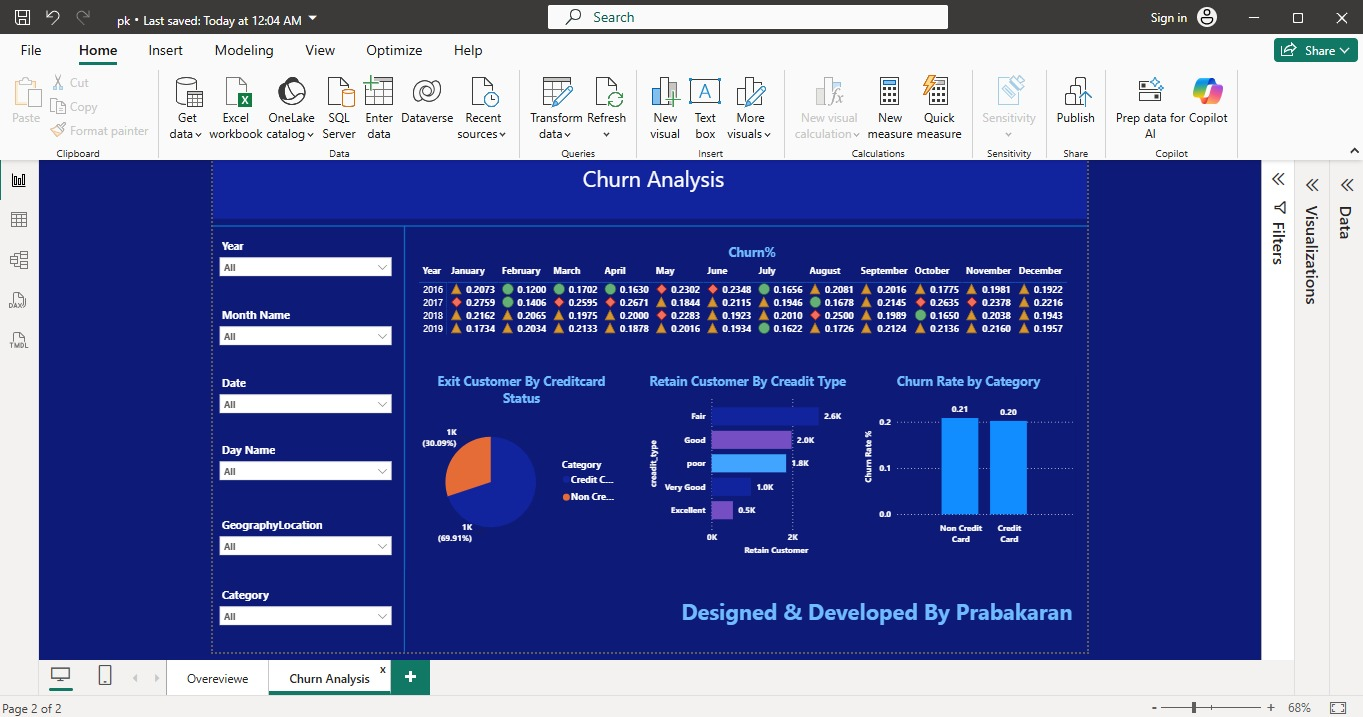

Layout of this report page (visuals, bound fields, positions):
{"tool":"powerbi","page":{"name":"Churn Analysis","canvas":[1280,720],"ordinal":1},"visuals":[{"type":"pivotTable","title":"Churn%","fields":{"Rows":["calender Table.Year"],"Columns":["calender Table.Month Name"],"Values":["Active Customer.Churn %"]},"box":[297.1,121.5,813.7,178.5],"z":0},{"type":"pieChart","title":"Exit Customer By Creditcard Status","fields":{"Y":["Active Customer.Exit Customer"],"Category":["Creditcard Category.Category"]},"box":[297.1,300,305.9,288.3],"z":1000},{"type":"textbox","box":[0,0,1280.5,86.3],"z":2000},{"type":"shape","box":[0,10.2,1280.5,172.7],"z":3000},{"type":"shape","box":[43.9,96.6,472.7,623.4],"z":4000},{"type":"slicer","fields":{"Values":["calender Table.Year"]},"box":[0,109.8,270.7,73.2],"z":5000},{"type":"slicer","fields":{"Values":["calender Table.Month Name"]},"box":[0,210.7,270.7,79],"z":6000},{"type":"slicer","fields":{"Values":["calender Table.Date"]},"box":[0,310.2,270.7,76.1],"z":7000},{"type":"slicer","fields":{"Values":["calender Table.Day Name"]},"box":[0,408.3,270.7,80.5],"z":8000},{"type":"slicer","fields":{"Values":["Location.GeographyLocation"]},"box":[0,518,270.7,80.5],"z":9000},{"type":"slicer","fields":{"Values":["Creditcard Category.Category"]},"box":[0,620.5,270.7,79],"z":10000},{"type":"clusteredBarChart","title":"Retain Customer By Creadit Type","fields":{"Y":["Active Customer.Retain Customer"],"Category":["Bank_Churn.creadit_type"]},"box":[639.5,300,294.1,288.3],"z":10001},{"type":"clusteredColumnChart","title":"Churn Rate  by Category","fields":{"Category":["Creditcard Category.Category"],"Y":["Active Customer.Churn Rate %"]},"box":[957.1,300,323.4,288.3],"z":10002},{"type":"textbox","box":[281,598.5,999.5,121.5],"z":10003}]}

Visuals, with their boxes on the page's 1280x720 design canvas (x1, y1, x2, y2). These are canvas units, not pixel positions in the 1363x717 screenshot, which may show the page scaled, cropped or inside an application window:
"Churn%" pivotTable: l=297, t=122, r=1111, b=300
"Exit Customer By Creditcard Status" pieChart: l=297, t=300, r=603, b=588
textbox: l=0, t=0, r=1280, b=86
shape: l=0, t=10, r=1280, b=183
shape: l=44, t=97, r=517, b=720
slicer - calender Table.Year: l=0, t=110, r=271, b=183
slicer - calender Table.Month Name: l=0, t=211, r=271, b=290
slicer - calender Table.Date: l=0, t=310, r=271, b=386
slicer - calender Table.Day Name: l=0, t=408, r=271, b=489
slicer - Location.GeographyLocation: l=0, t=518, r=271, b=598
slicer - Creditcard Category.Category: l=0, t=620, r=271, b=700
"Retain Customer By Creadit Type" clusteredBarChart: l=640, t=300, r=934, b=588
"Churn Rate  by Category" clusteredColumnChart: l=957, t=300, r=1280, b=588
textbox: l=281, t=598, r=1280, b=720
